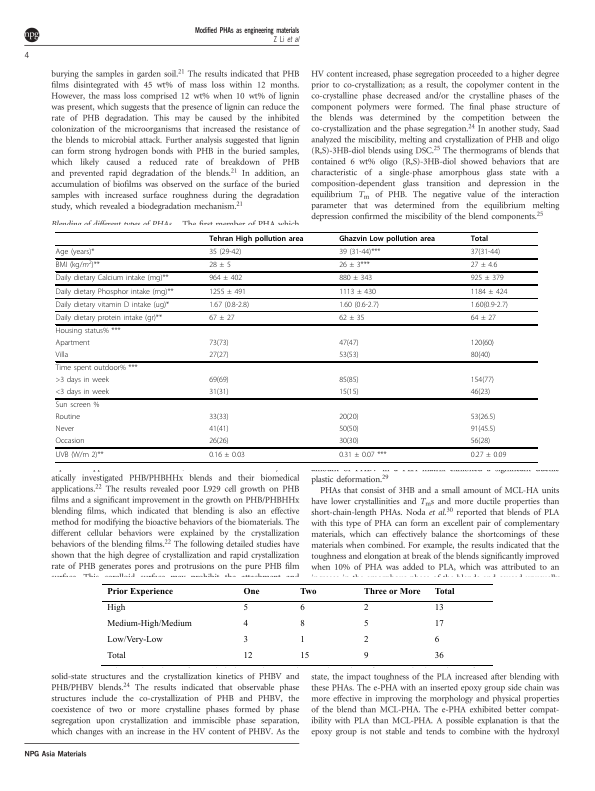borderless: (54, 230, 538, 462), (101, 582, 493, 665)
cell: (55, 287, 175, 296), (55, 313, 163, 323), (55, 274, 170, 283), (55, 300, 170, 309), (338, 234, 436, 243), (208, 234, 304, 243), (106, 619, 192, 629), (55, 364, 138, 373), (106, 586, 173, 596), (55, 326, 121, 336), (362, 586, 421, 596), (106, 635, 163, 645), (55, 387, 110, 397), (54, 259, 101, 270), (55, 376, 110, 385), (55, 450, 104, 459), (338, 450, 387, 459), (338, 247, 381, 257), (54, 247, 95, 257), (55, 401, 100, 410), (208, 300, 250, 309), (338, 300, 380, 309), (55, 338, 91, 348), (208, 287, 247, 296), (338, 287, 377, 296), (470, 300, 509, 309), (470, 287, 508, 296), (208, 450, 246, 459), (208, 247, 242, 257), (470, 450, 507, 459), (338, 260, 371, 270), (208, 274, 243, 283), (338, 274, 373, 283), (470, 274, 505, 283), (470, 247, 501, 257), (470, 260, 498, 270), (208, 313, 235, 323), (338, 313, 365, 323), (470, 313, 497, 323), (55, 437, 85, 446), (470, 338, 495, 348), (208, 260, 232, 270), (55, 413, 81, 422), (470, 413, 496, 422), (470, 425, 496, 434), (470, 376, 495, 385), (433, 586, 455, 596), (208, 338, 230, 348), (208, 350, 230, 360), (208, 387, 230, 397), (338, 338, 359, 348), (338, 350, 359, 360), (470, 350, 491, 360), (338, 387, 359, 397), (470, 387, 491, 397), (106, 603, 126, 613), (106, 651, 126, 661), (208, 376, 230, 385), (208, 413, 230, 422), (208, 425, 230, 434), (208, 437, 230, 446), (338, 376, 359, 385), (338, 413, 359, 422), (338, 425, 359, 434), (338, 437, 359, 446), (470, 437, 491, 446), (242, 586, 260, 596), (299, 586, 317, 596), (55, 425, 75, 434), (470, 234, 489, 243), (55, 350, 69, 360), (433, 603, 444, 613), (433, 619, 444, 629), (242, 651, 253, 661), (299, 651, 310, 661), (433, 651, 444, 661), (362, 603, 369, 613), (362, 619, 369, 629), (362, 635, 369, 645), (433, 635, 440, 645), (362, 651, 369, 661), (242, 603, 248, 613), (299, 603, 305, 613), (242, 619, 248, 629), (299, 619, 305, 629), (242, 635, 248, 645), (299, 635, 305, 645)
